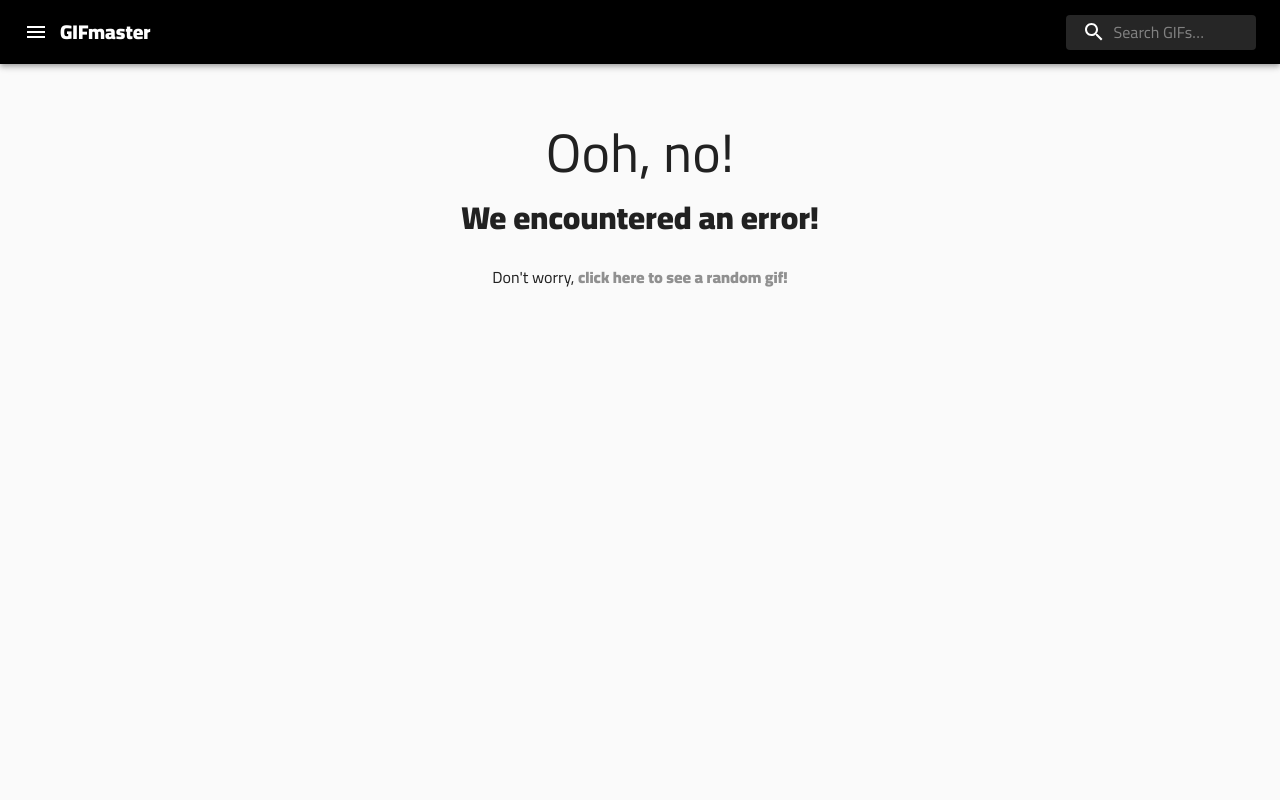
Test: Layout › Should open and close a drawer with links to each route
The width and height of the screenshot is (1280, 800).
Click the button with test id "open-drawer-button".
click(36, 32)  # box [12, 8, 60, 56]
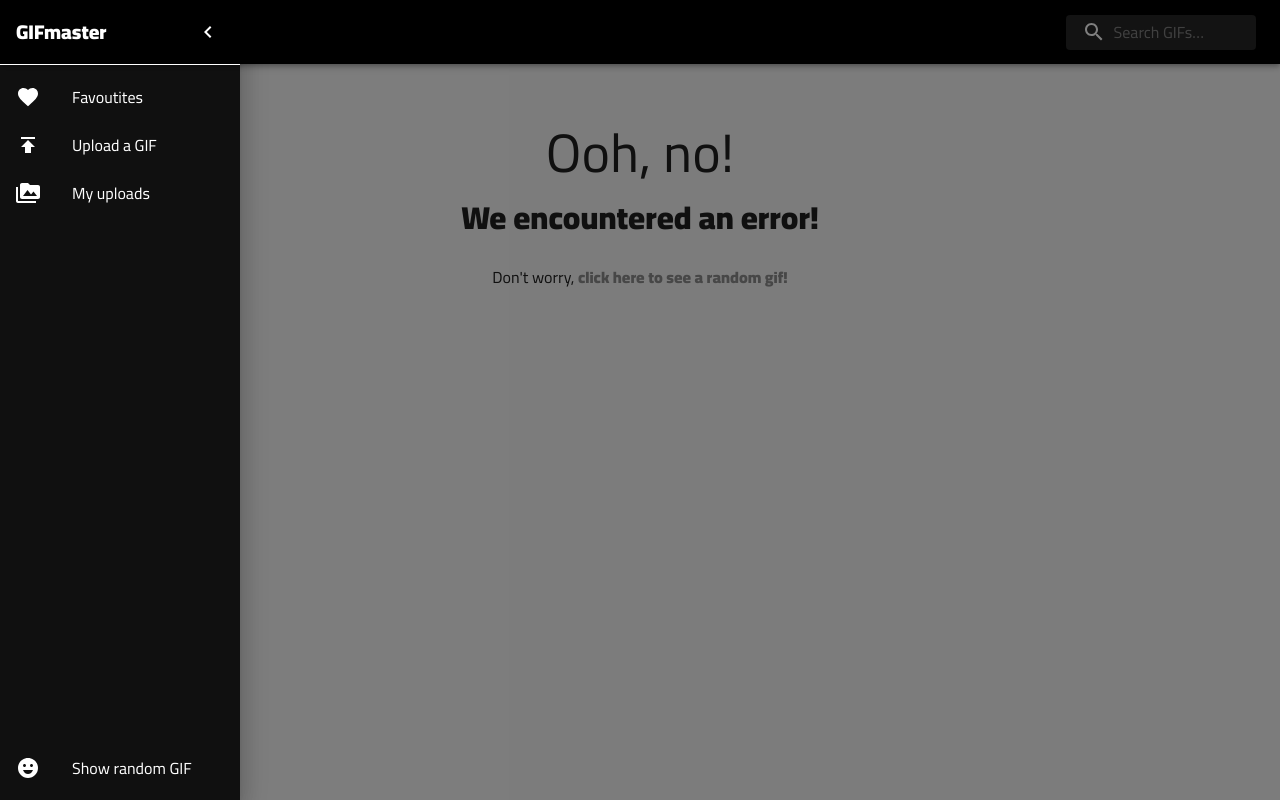
Click the button with test id "close-drawer-button".
click(208, 32)  # box [184, 8, 232, 56]
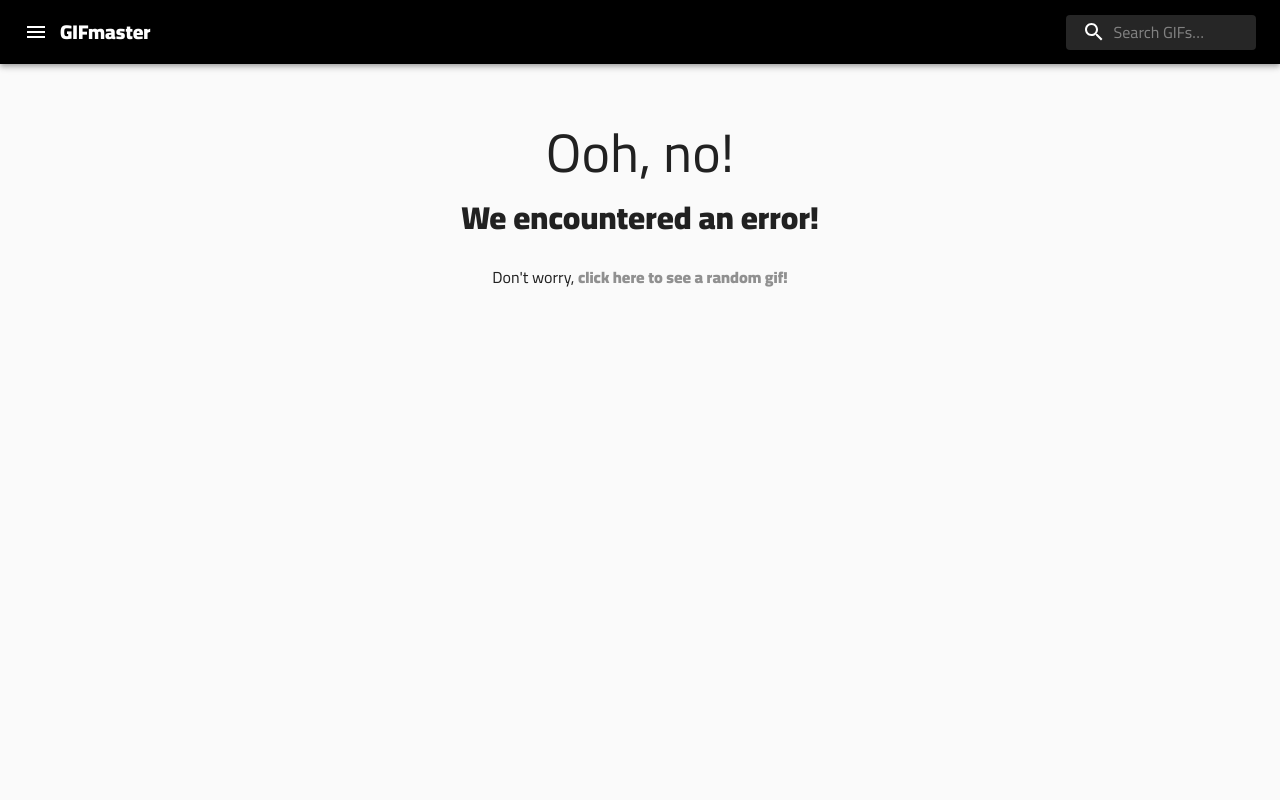
Expected: the element with test id "drawer-menu" is gone
